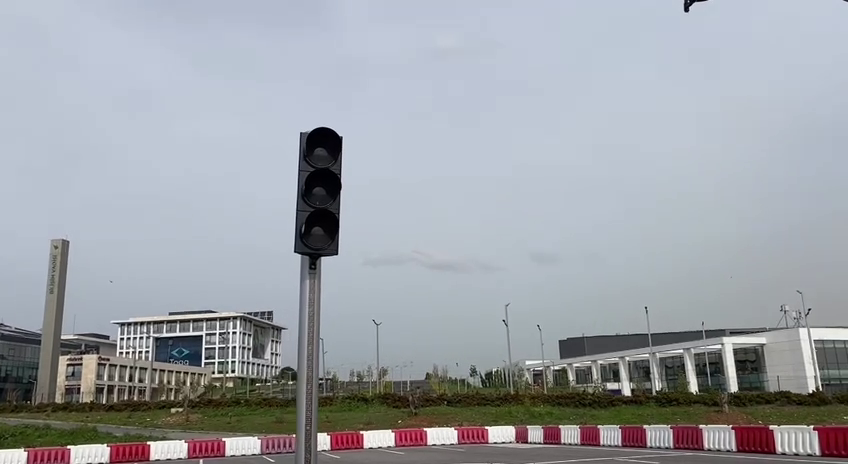trafficLight: (287, 120, 348, 265)
